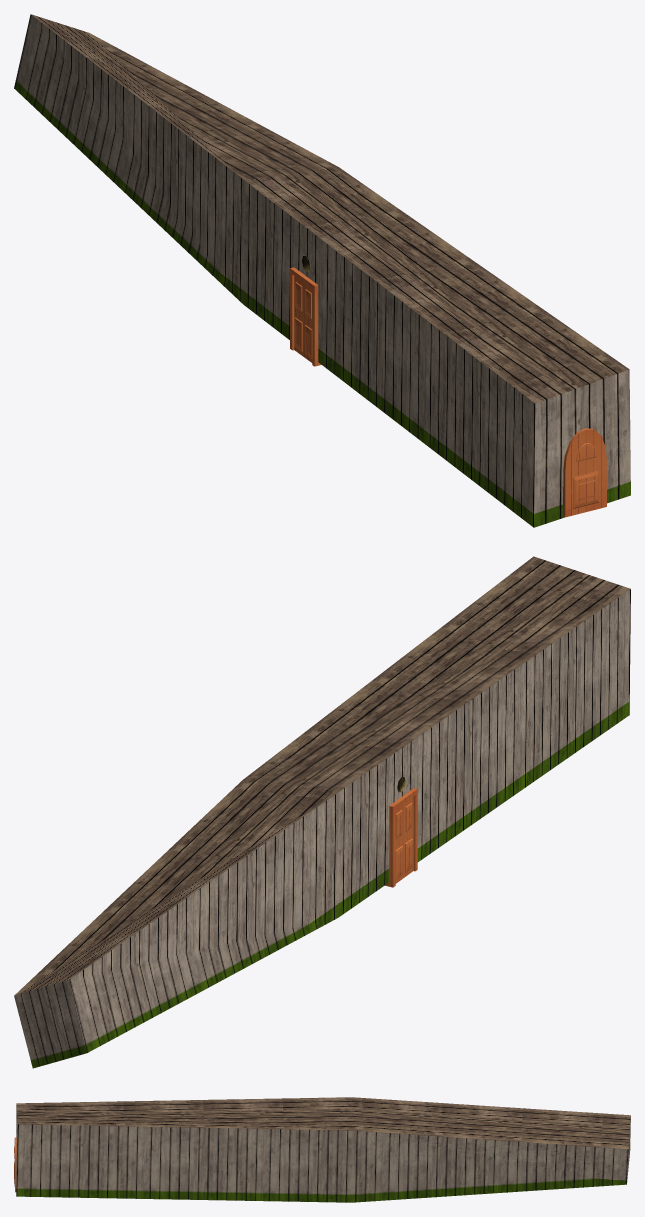
Rendered from corridor_02.fbx.
3 views of the same model, one above another, from view 1: azimuth 30°, elevation 25°; view 2: azimuth 150°, elevation 25°; view 3: azimuth 270°, elevation 25° (orthographic). The views are drawn at different scales.
Visible parts, largest first — view 1: Cube, Cube.004, Cube.001; view 2: Cube, Cube.001; view 3: Cube.
Boxes of the visible parts, <box> form: Cube: <box>14,14,630,527</box>; Cube.004: <box>563,428,606,517</box>; Cube.001: <box>290,267,321,366</box>; Cube: <box>14,556,630,1068</box>; Cube.001: <box>385,788,417,887</box>; Cube: <box>16,1097,630,1202</box>.
Size of the model in its own units: 416 by 544 by 3872.
Materials: 5 (5 with a texture image).
